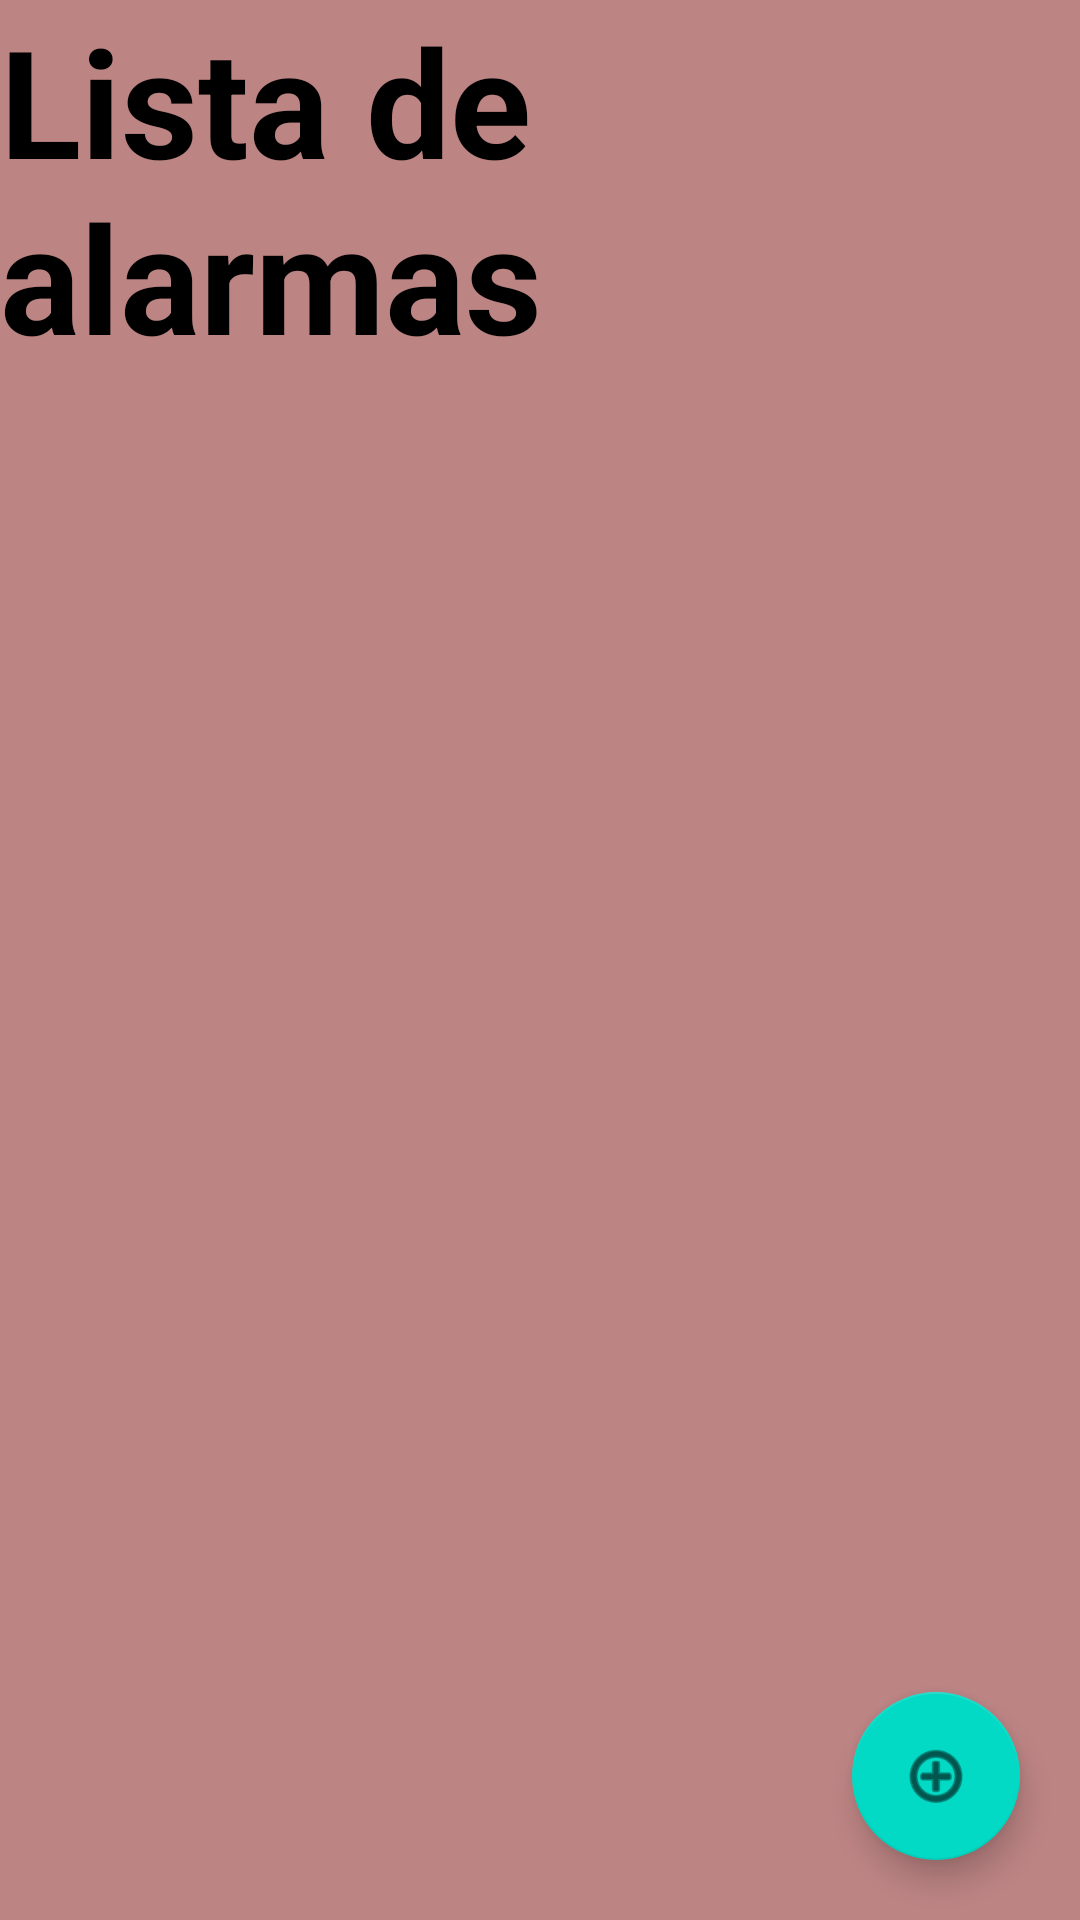

Icon click points for this 1080x1920 phone screenshot, format (x,y):
Add new alarm: (936,1776)
